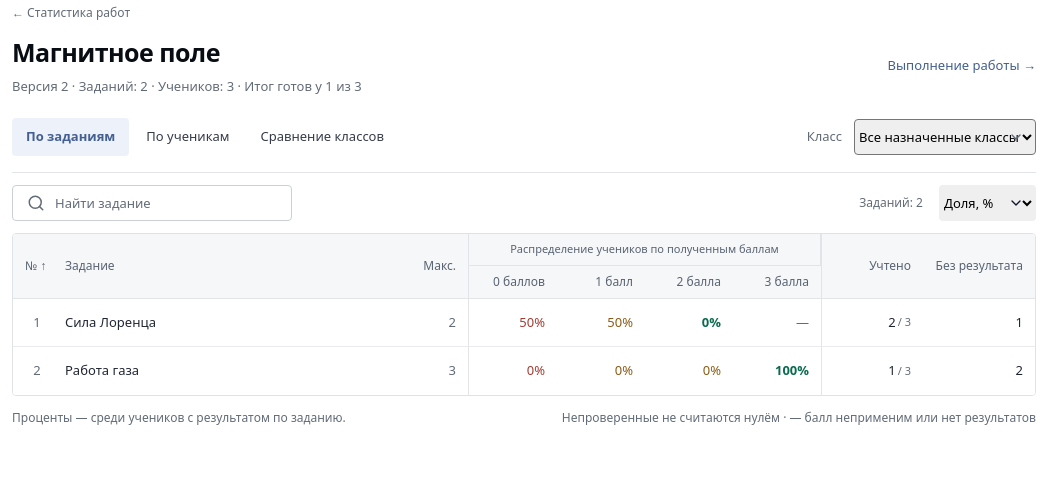
Test: uses the same score columns for class comparison and retains the two-part summary
Click the button "Сравнение классов".
click(322, 137)  # box [246,118,398,156]
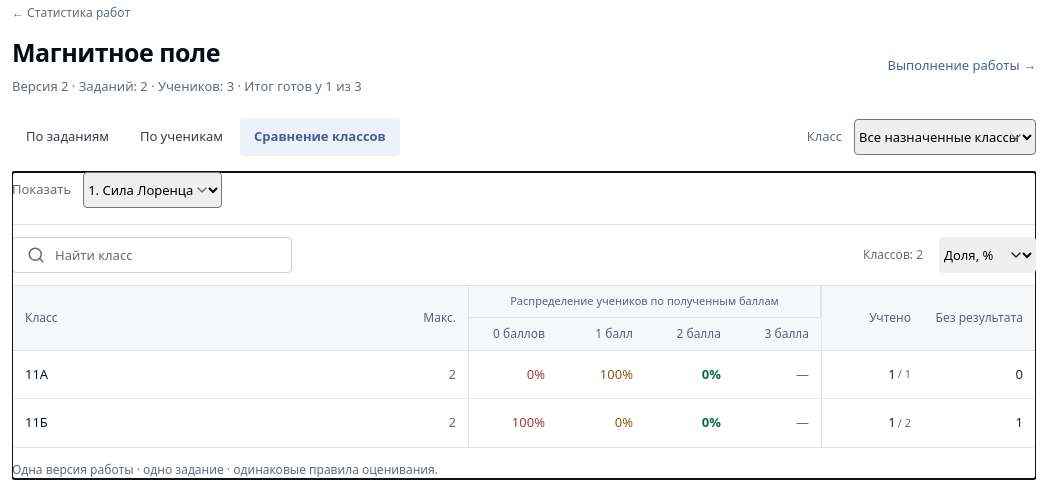
expect the column heading "3 балла" is shown: met, box [733,318,821,351]
expect the row "11А 2 0% 100% 0% — 1 / 1 0" is shown: met, box [13,351,1035,399]
Type "11А" into the search field labelled "Найти класс".
click(149, 255); type("11А")  # box [55,238,243,272]
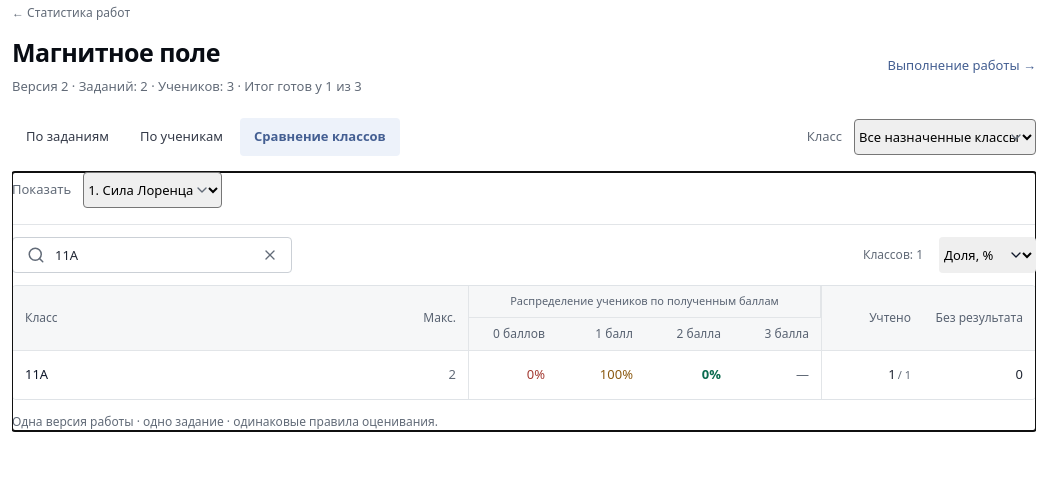
expect the text "11Б" is gone: met
Select "Итоги двух частей" in the dropdown named "Сравнение классов" at (153, 190), box [83,172,222,208]
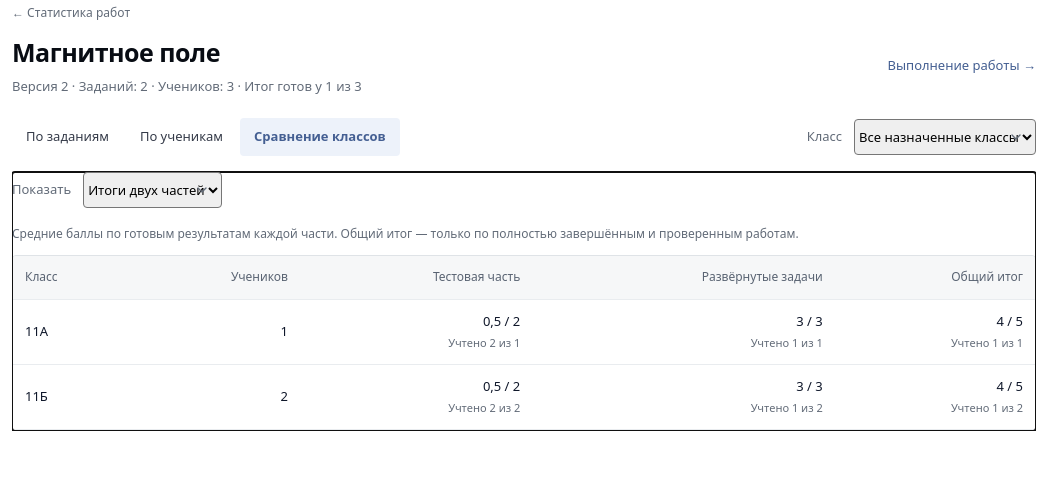
expect the column heading "Общий итог" is shown: met, box [835,256,1035,300]
expect the row "11Б" is shown: met, box [13,365,1035,430]
